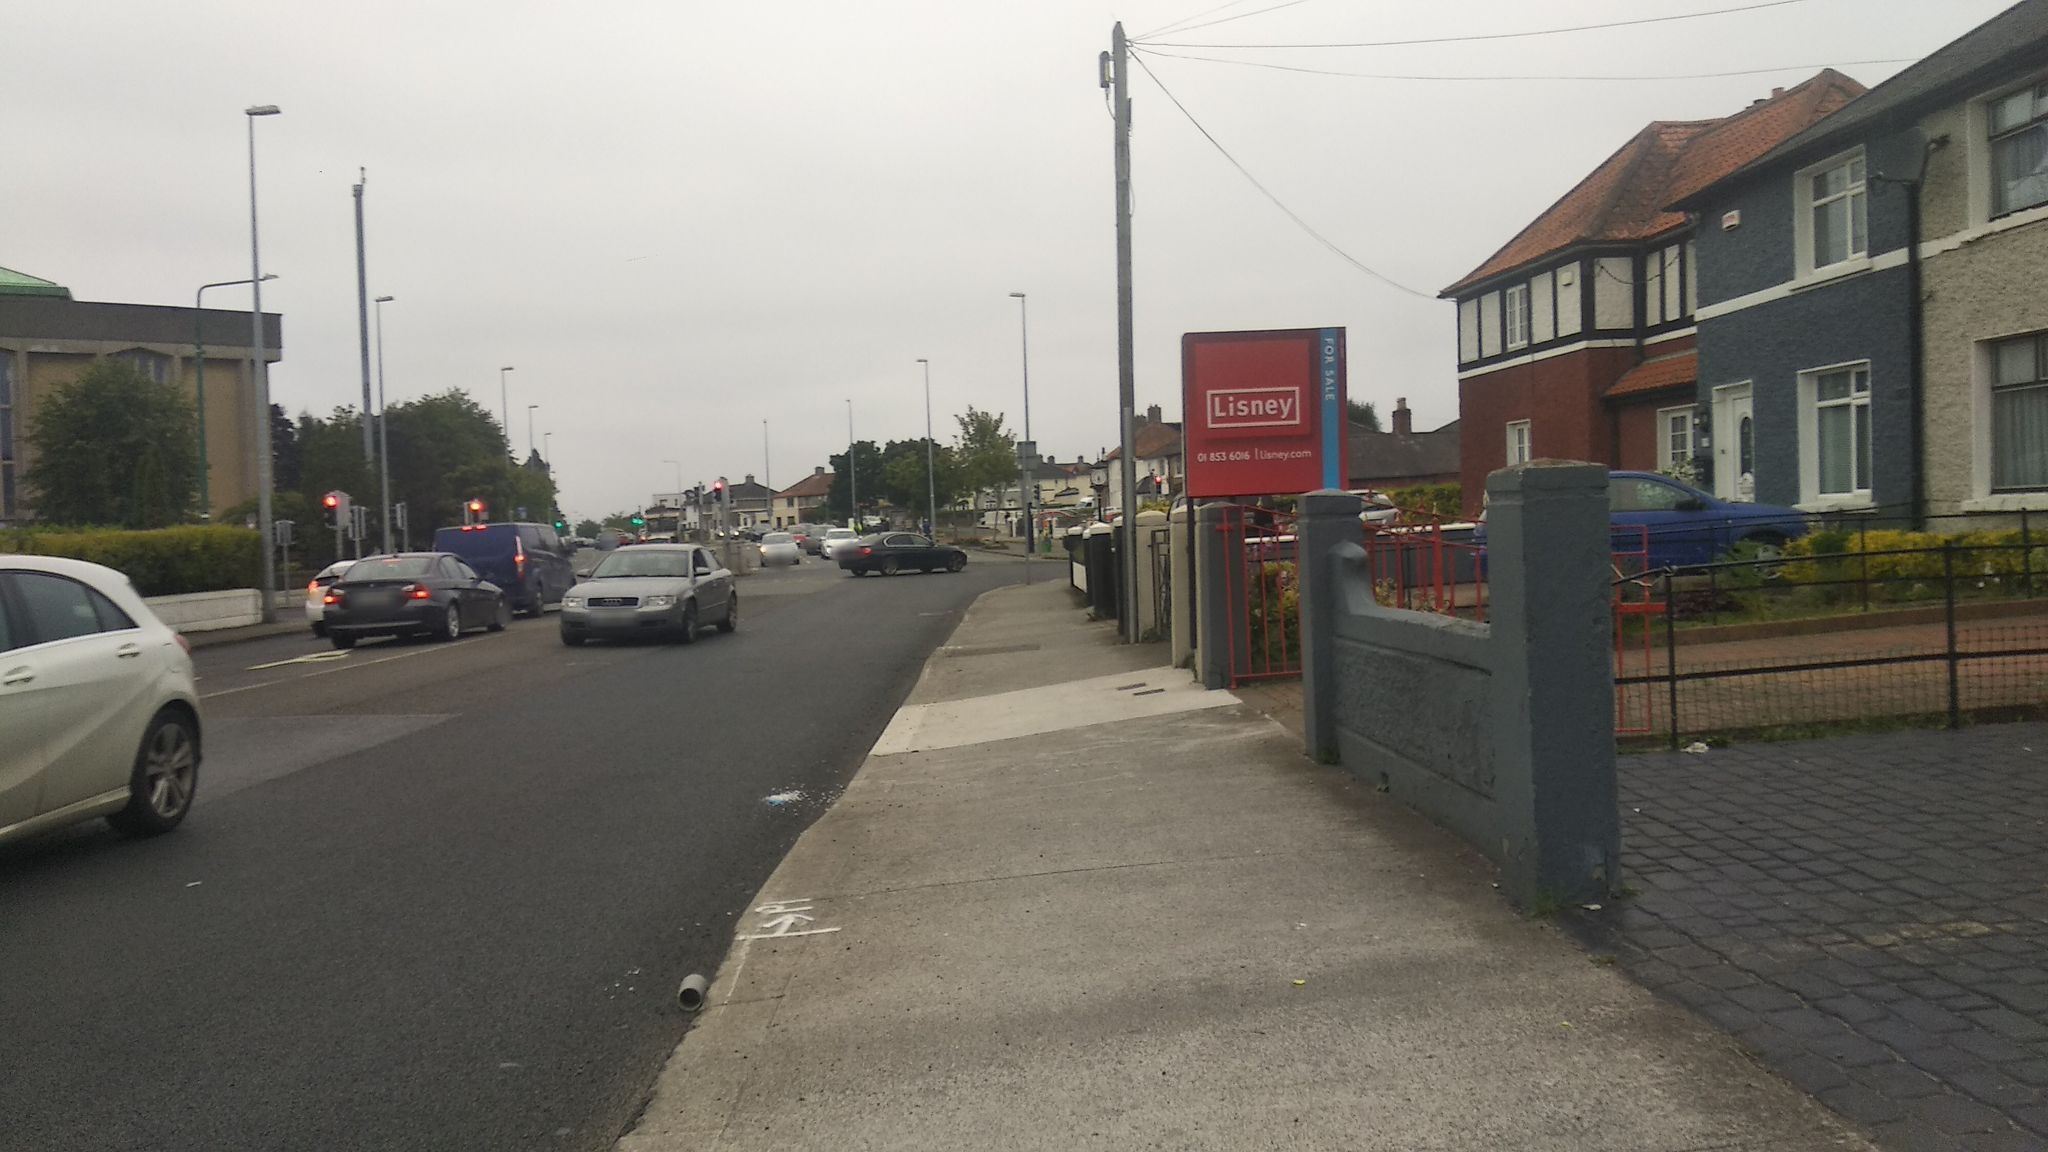property sign: (1167, 314, 1364, 506)
